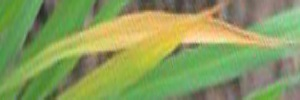RiceTungro: (56, 10, 274, 52)
